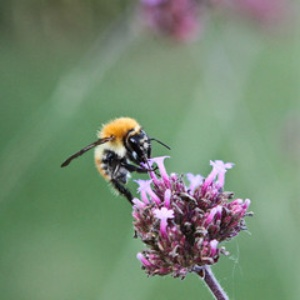bee: (60, 115, 172, 208)
